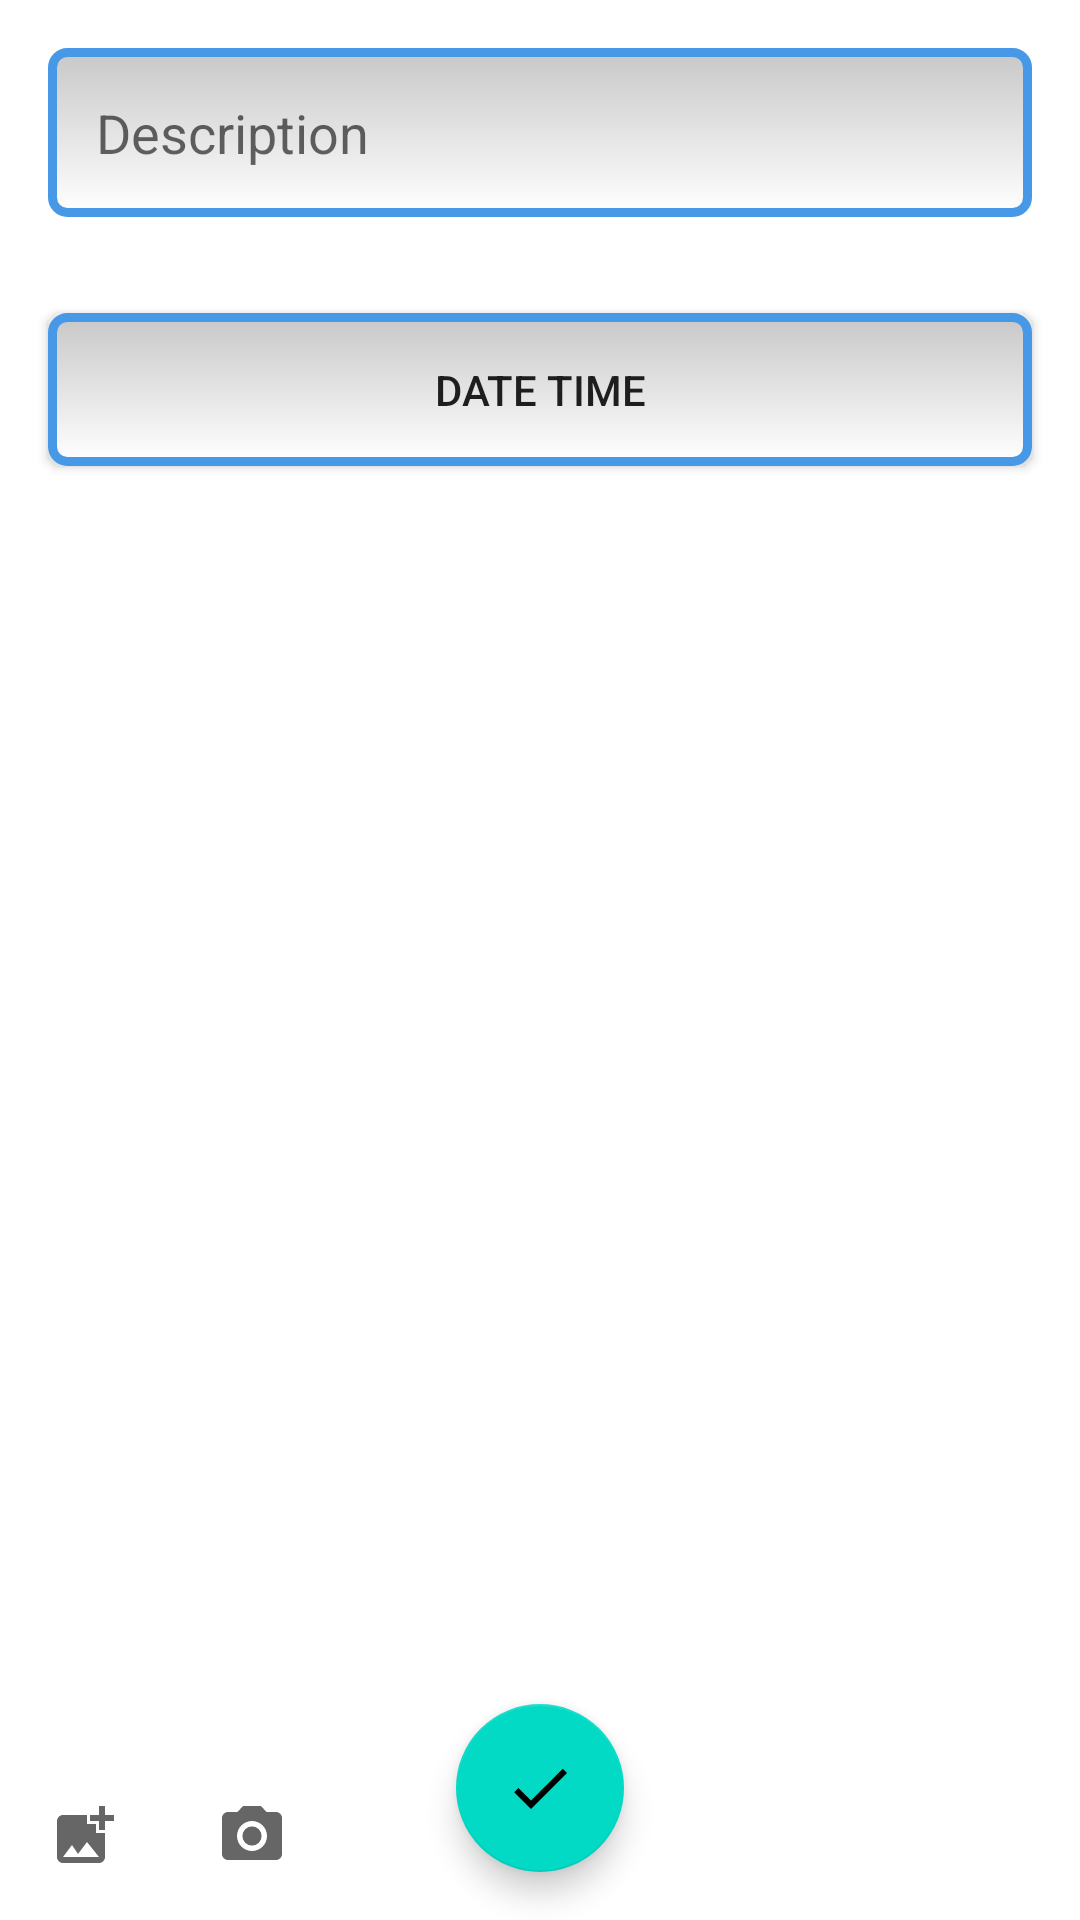

Where to tap for icons on this 1080px×1920px app screen, as (x=x, y=y):
add photo alternate: (x=85, y=1834)
camera: (x=252, y=1833)
